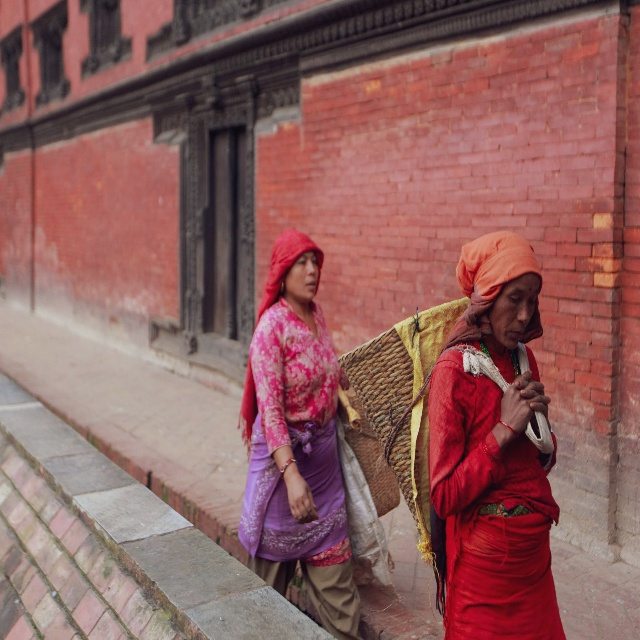Sin_guantes: (499, 370, 549, 436), (286, 479, 319, 524)
